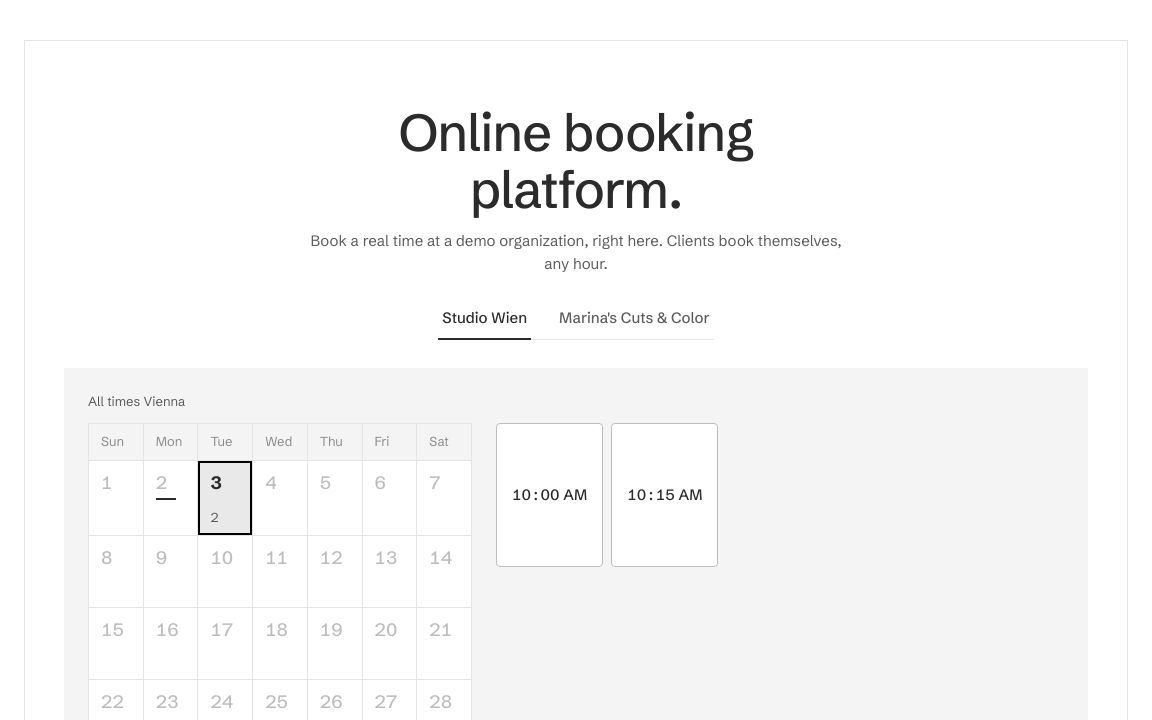
Test: Landing live booking › switches to Marina's and shows her times in New York time
Expected: the button "10:00 AM" is shown, [496, 423, 603, 567]
Click the button "Marina's Cuts & Color" at (634, 320), box [555, 299, 714, 340]
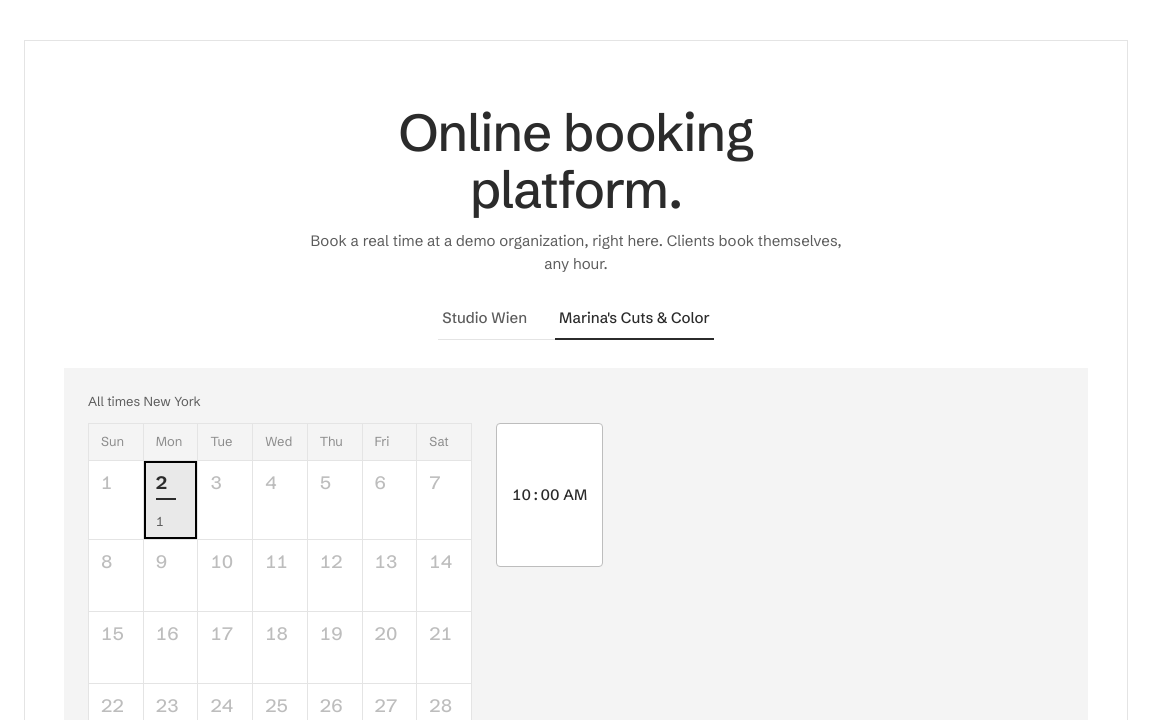
Expected: the button "10:00 AM" is shown, [496, 423, 603, 567]
Expected: the button "10:15" is gone
